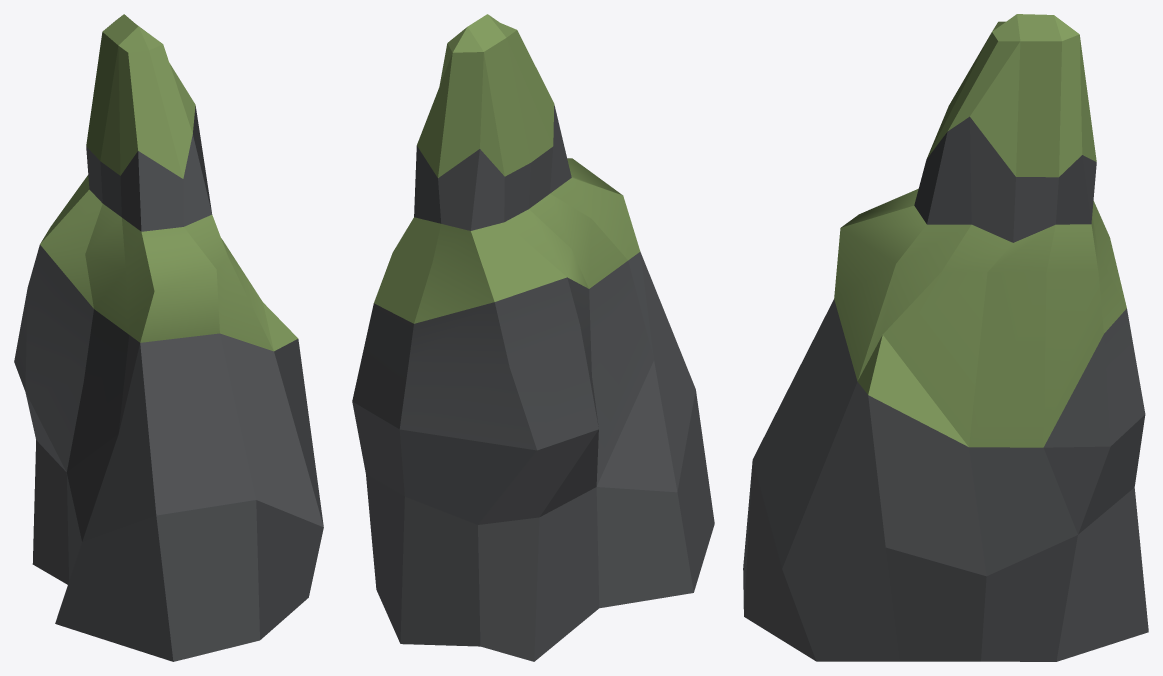
File: Hill2.fbx
3 views of the same model, side by side, from view 1: azimuth 30°, elevation 25°; view 2: azimuth 150°, elevation 25°; view 3: azimuth 270°, elevation 25° (orthographic). The views are drawn at different scales.
Visible parts, largest first — view 1: polySurface5; view 2: polySurface5; view 3: polySurface5.
Boxes of the visible parts, x1,y1,x2,y2 form: polySurface5: (14,14,323,661); polySurface5: (352,14,714,661); polySurface5: (743,14,1148,661).
Bounding box in the file's own units: 1.69 × 3.76 × 2.23.
